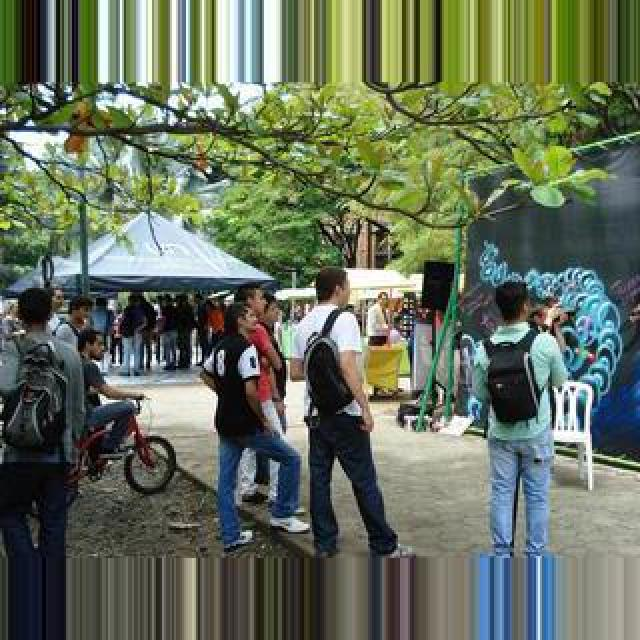MC-Bike: (300, 270, 408, 552), (0, 298, 90, 630), (198, 290, 312, 548), (470, 280, 574, 556), (78, 330, 152, 474), (118, 292, 154, 378), (366, 292, 394, 344)
Person: (74, 398, 178, 500)
